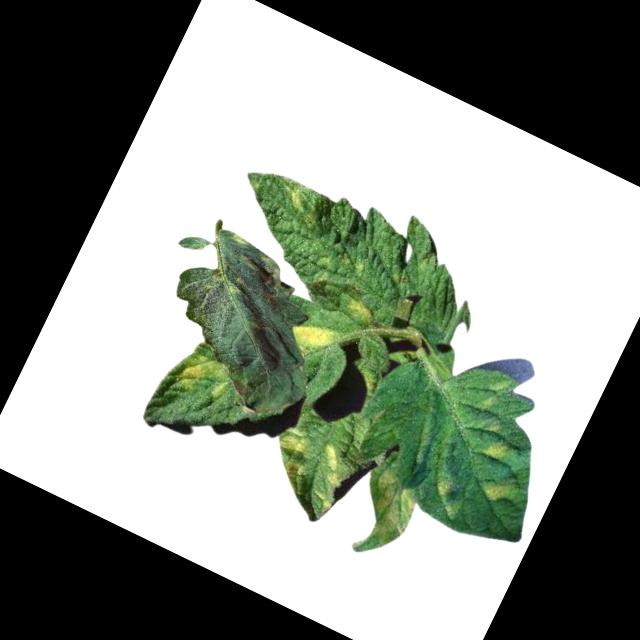Leaf_Mold: (343, 467, 427, 568), (200, 225, 301, 306), (163, 343, 239, 414), (298, 441, 357, 514), (264, 424, 325, 489), (422, 472, 472, 522), (280, 181, 331, 230), (287, 316, 338, 358), (339, 296, 380, 333), (480, 473, 519, 511), (481, 433, 511, 463)
